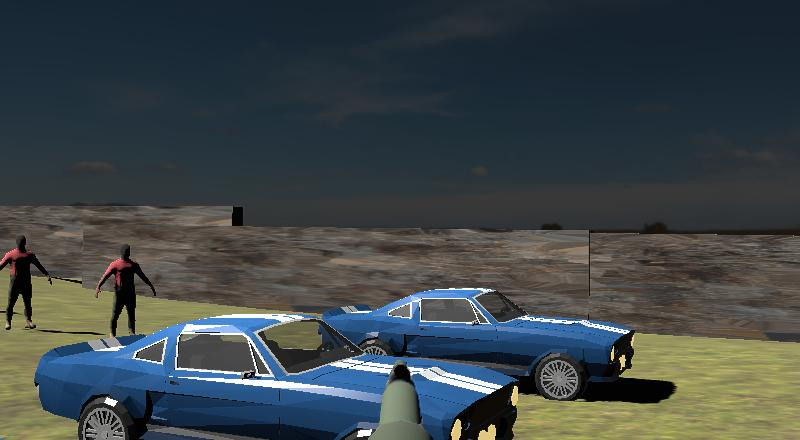Human: (95, 243, 157, 339), (0, 234, 52, 331)
car: (29, 318, 525, 440), (278, 284, 642, 405)
